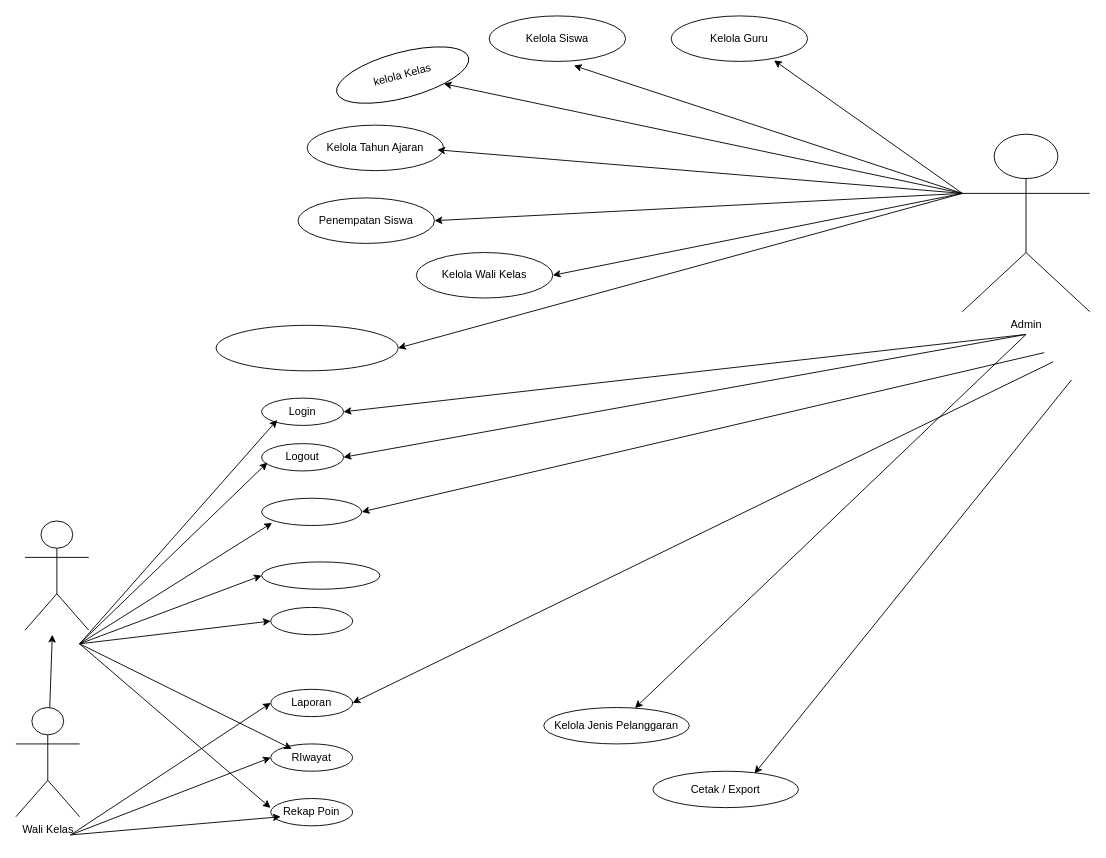
Image size: 1106x858. Some labels were removed from this diagram. Here are the shapes that lost their labels. From the top down, the centre of each, then its label:
At point 306,347: "Kelola Kategori Pelanggan".
At point 311,511: "Dashboard".
At point 56,575: "Guru".
At point 320,575: "Catat Pelanggaran".
At point 311,621: "Tindakan".
